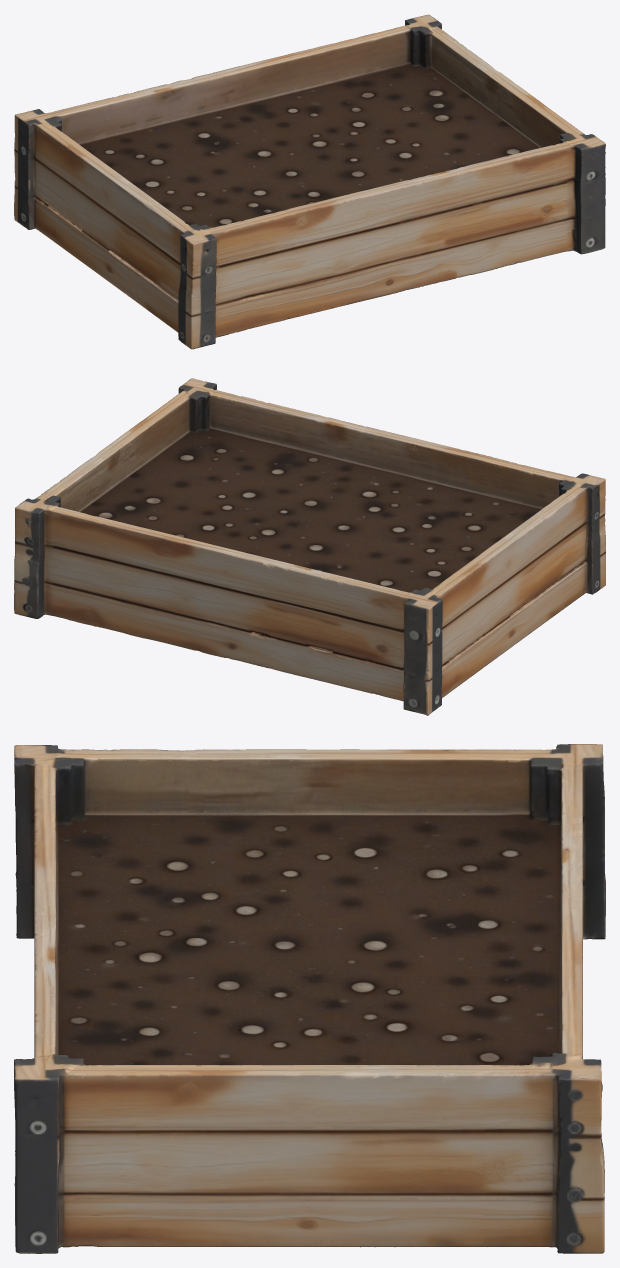
File: Hochbeet_2.glb
3 renders of one model, top to bottom at view 1: azimuth 30°, elevation 25°; view 2: azimuth 150°, elevation 25°; view 3: azimuth 270°, elevation 25°, orthographic. The views are drawn at different scales.
Size of the model in its own units: 2 by 0.4993 by 1.49.
Materials: 1 (1 with a texture image).
